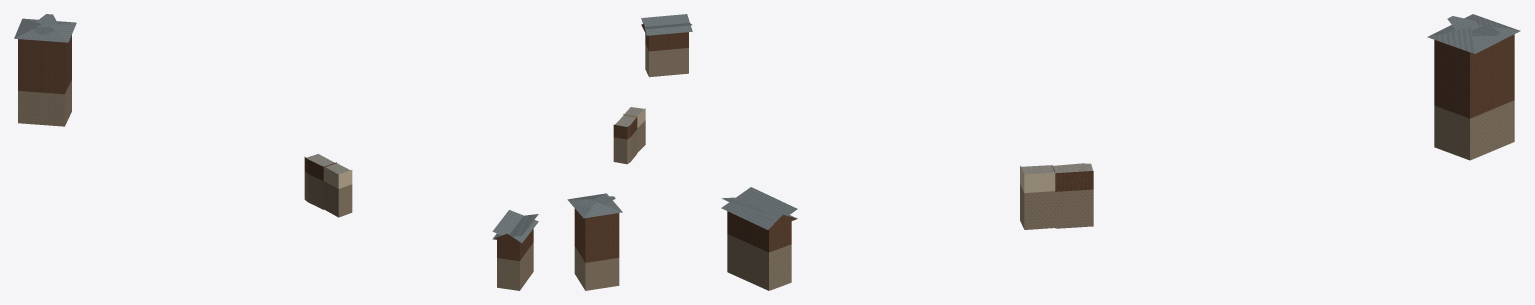
Rendered from bld_c9_10_493.gltf.
3 views of the same model, side by side, from view 1: azimuth 30°, elevation 25°; view 2: azimuth 150°, elevation 25°; view 3: azimuth 270°, elevation 25° (orthographic). The views are drawn at different scales.
Visible parts, largest first — view 1: bld_c9_10_493; view 2: bld_c9_10_493; view 3: bld_c9_10_493.
Boxes of the visible parts, x1,y1,x2,y2 form: bld_c9_10_493: (14, 14, 538, 290); bld_c9_10_493: (567, 14, 692, 290); bld_c9_10_493: (721, 14, 1520, 290).
Size of the model in its own units: 41.55 by 15.8 by 88.42.
Materials: 7 (7 with a texture image).
